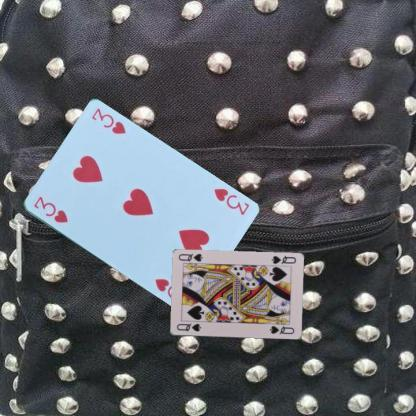3h: (210, 186, 250, 216), (30, 194, 68, 224)
Qs: (268, 253, 298, 265), (174, 321, 202, 332)
